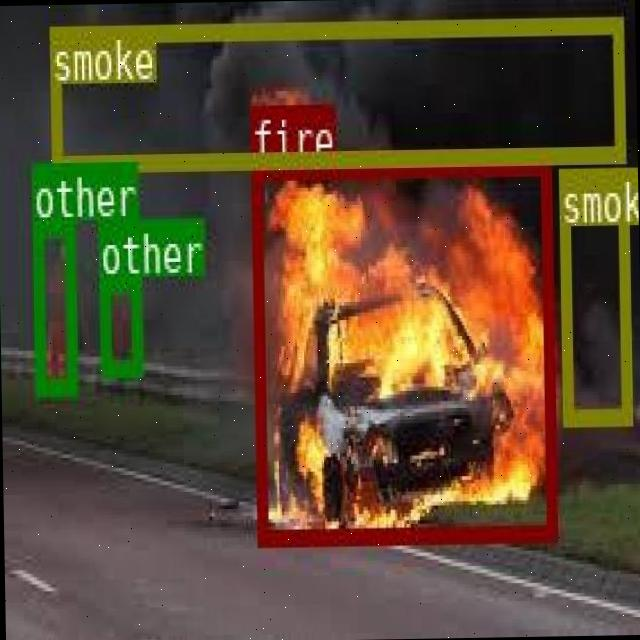fire: (249, 157, 555, 541)
smoke: (47, 15, 623, 166), (556, 167, 630, 420)
